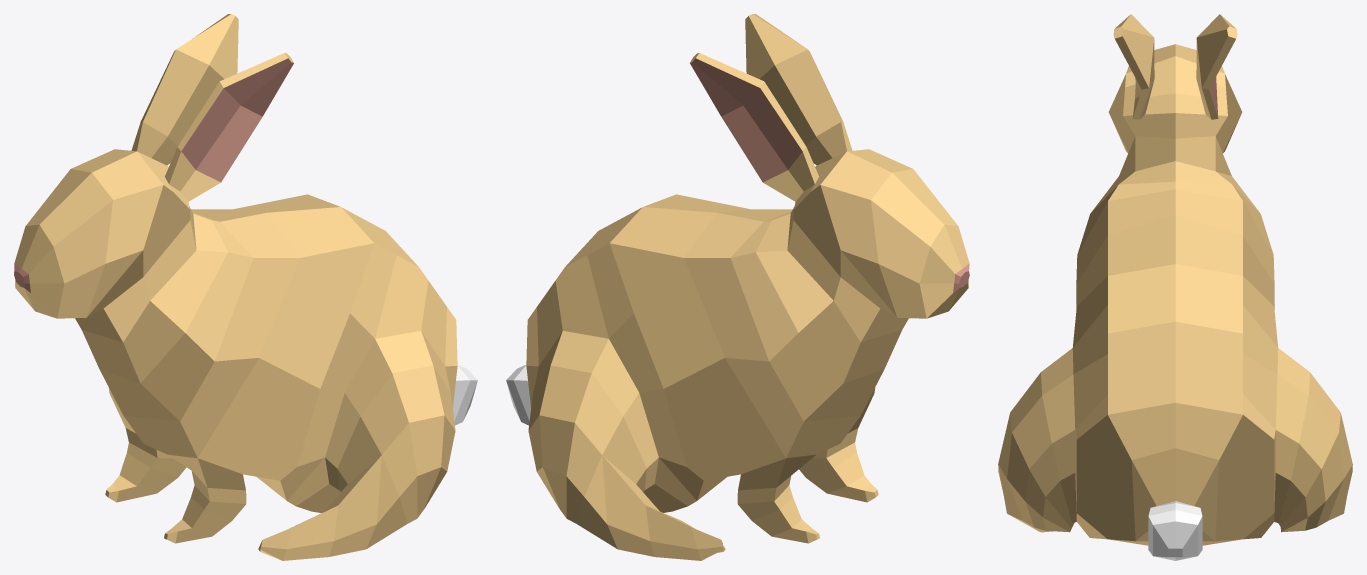
The model's file is Rabbit.fbx.
3 views of the same model, side by side, from view 1: azimuth 30°, elevation 25°; view 2: azimuth 150°, elevation 25°; view 3: azimuth 270°, elevation 25° (orthographic).
Parts seen in each view (by area): view 1: Cube; view 2: Cube; view 3: Cube.
Boxes of the visible parts, x1,y1,x2,y2 form: Cube: [14, 14, 477, 560]; Cube: [506, 14, 969, 560]; Cube: [998, 14, 1352, 560].
Size of the model in its own units: 402 by 396 by 269.
